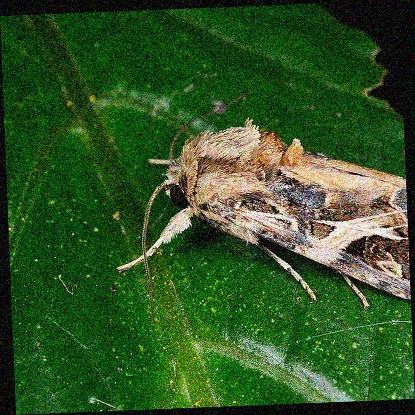Spodoptera litura: (113, 92, 407, 322)
